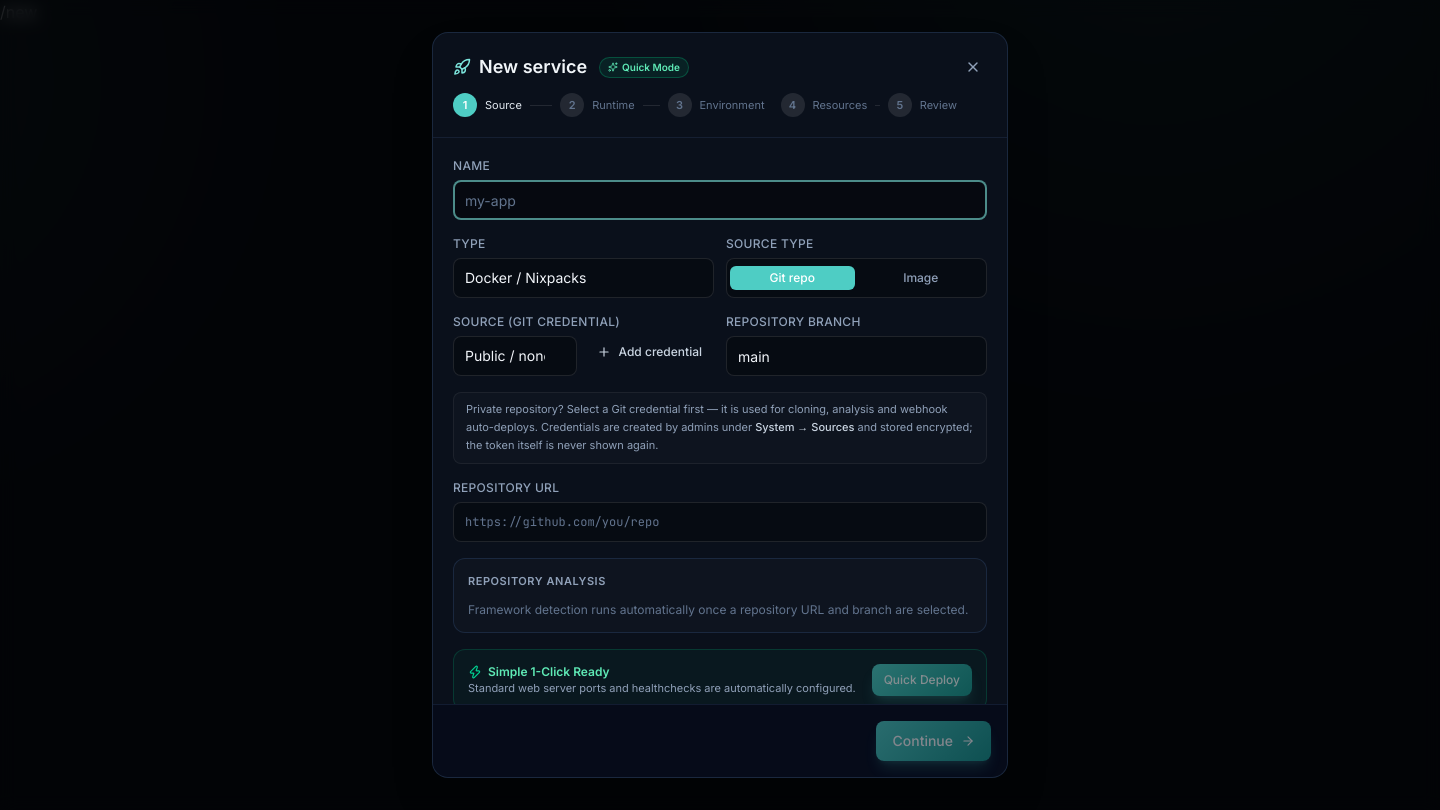
Scenario: DeployWizard › requires an image in image mode
Type "app" into the field with placeholder "my-app" at coordinates (720, 200), box [453,180,987,220]
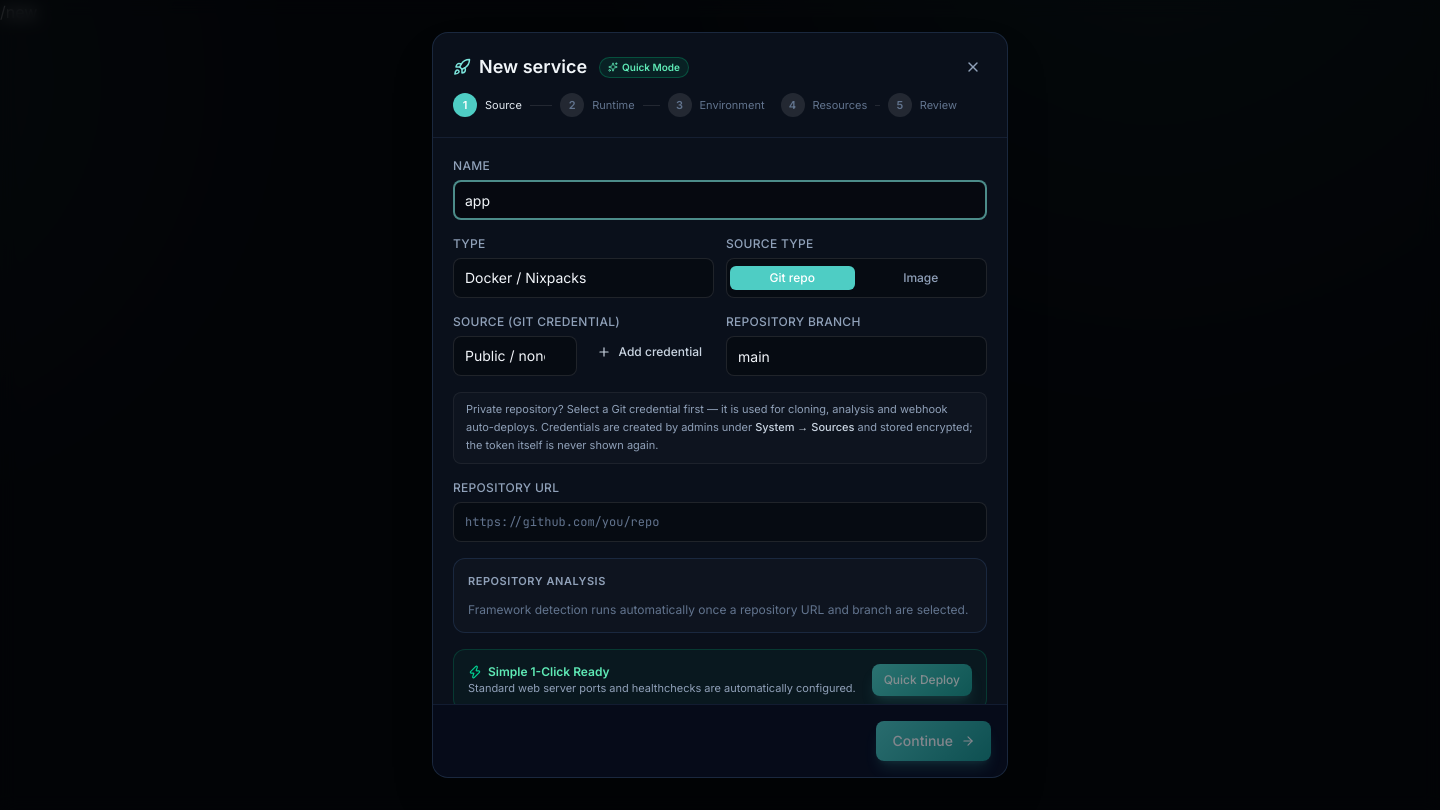
Click the button "Image" at coordinates (921, 278), box [858,266,983,290]
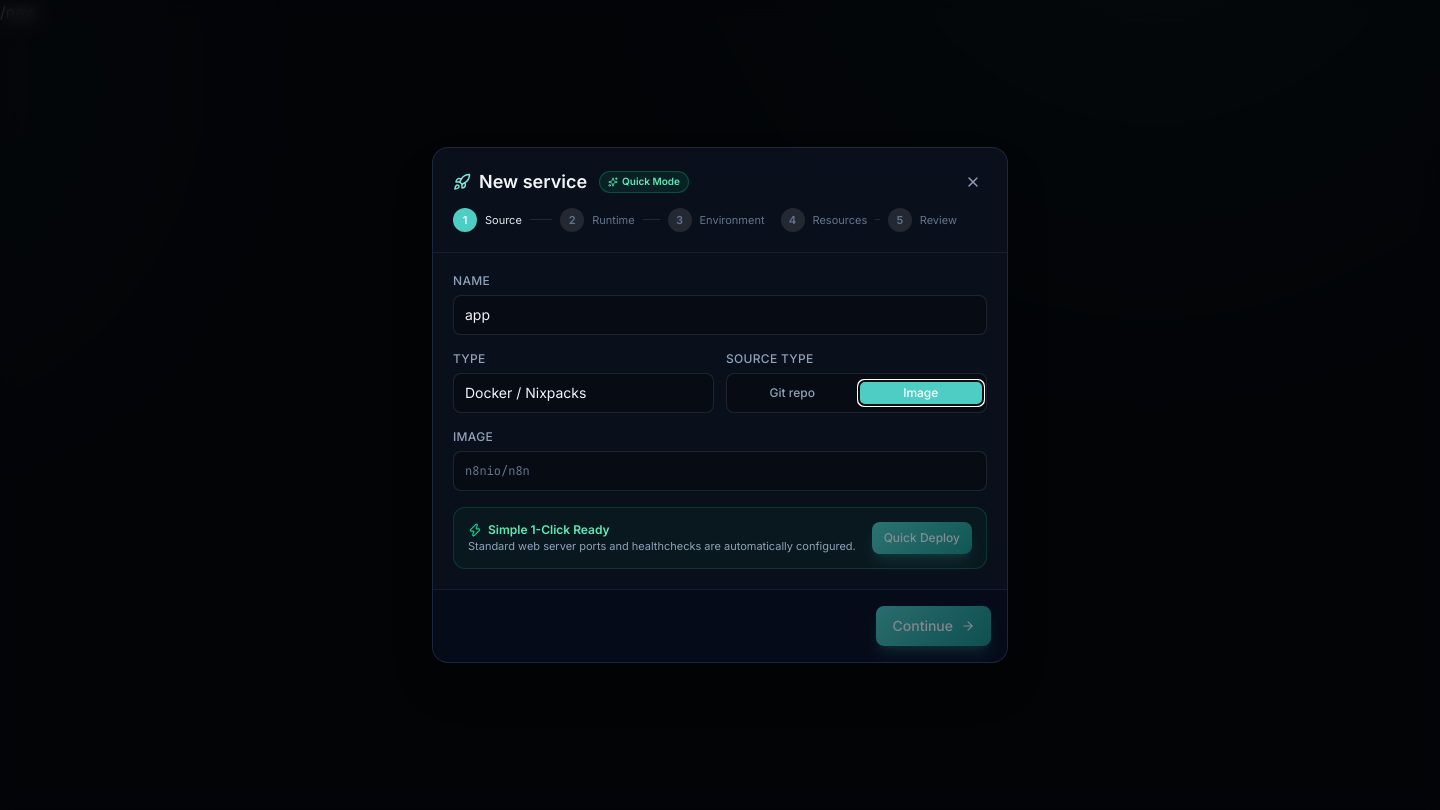
Expected: the button "Continue" is disabled, [876,606,991,646]
Expected: the field with placeholder "n8nio/n8n" is shown
Type "myimg" into the field with placeholder "n8nio/n8n" at coordinates (720, 471), box [453,451,987,491]
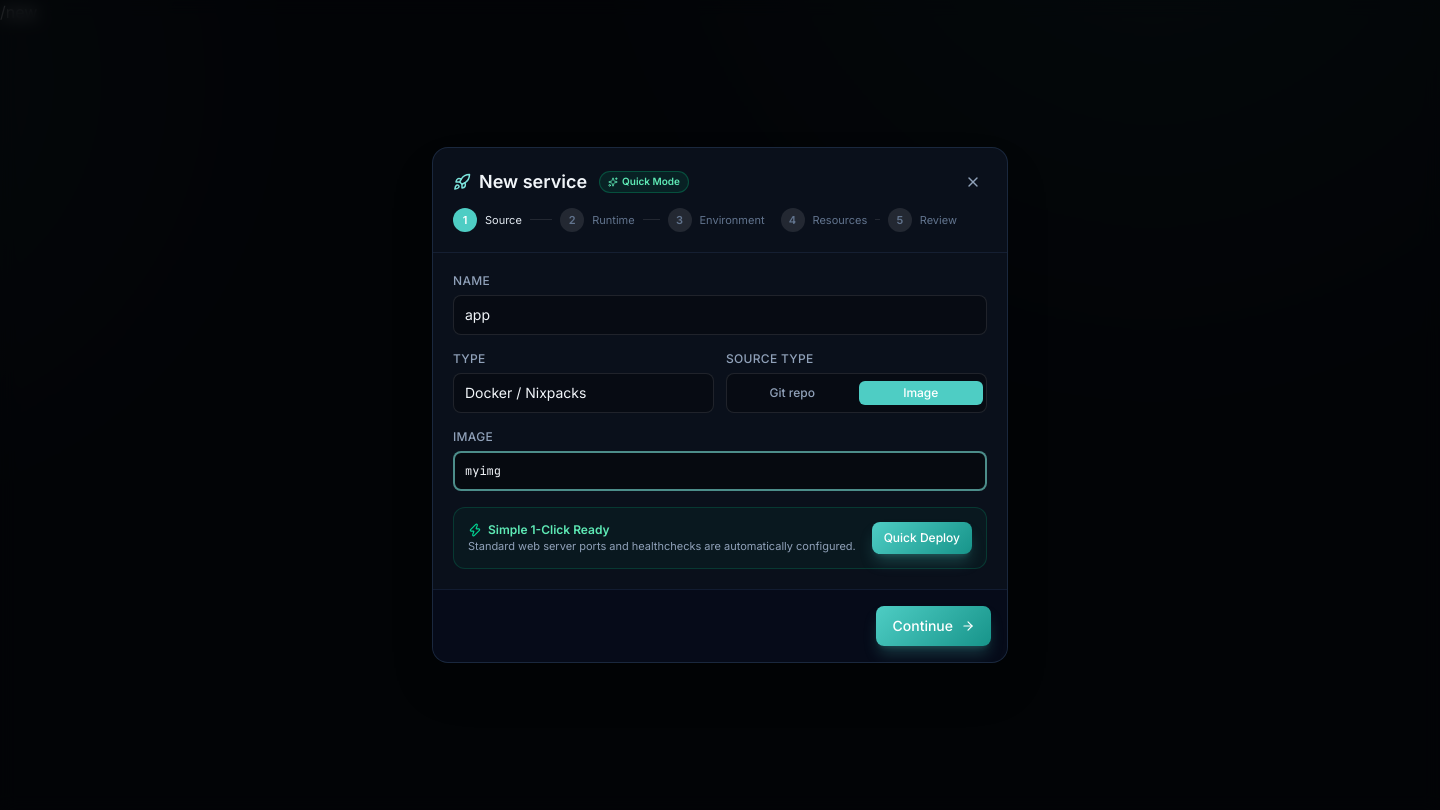
Expected: the button "Continue" is enabled, [876,606,991,646]
